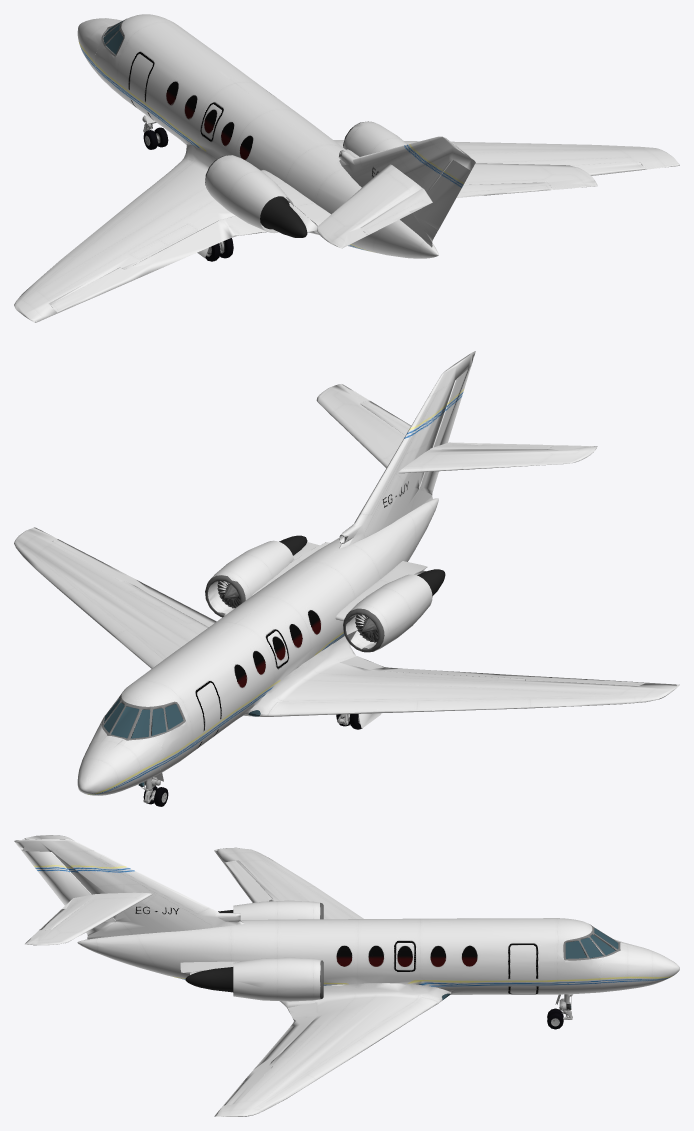
Rendered from avion.obj.
3 renders of one model, top to bottom at view 1: azimuth 30°, elevation 25°; view 2: azimuth 150°, elevation 25°; view 3: azimuth 270°, elevation 25°, orthographic. The views are drawn at different scales.
Visible parts, largest first — view 1: ArchM_73_0; view 2: ArchM_73_0; view 3: ArchM_73_0.
Boxes of the visible parts, x1,y1,x2,y2 form: ArchM_73_0: [14, 14, 679, 322]; ArchM_73_0: [14, 351, 679, 806]; ArchM_73_0: [14, 835, 679, 1116].
Size of the model in its own units: 0.8296 by 0.2705 by 0.8712.
7 materials, 1 textured.
